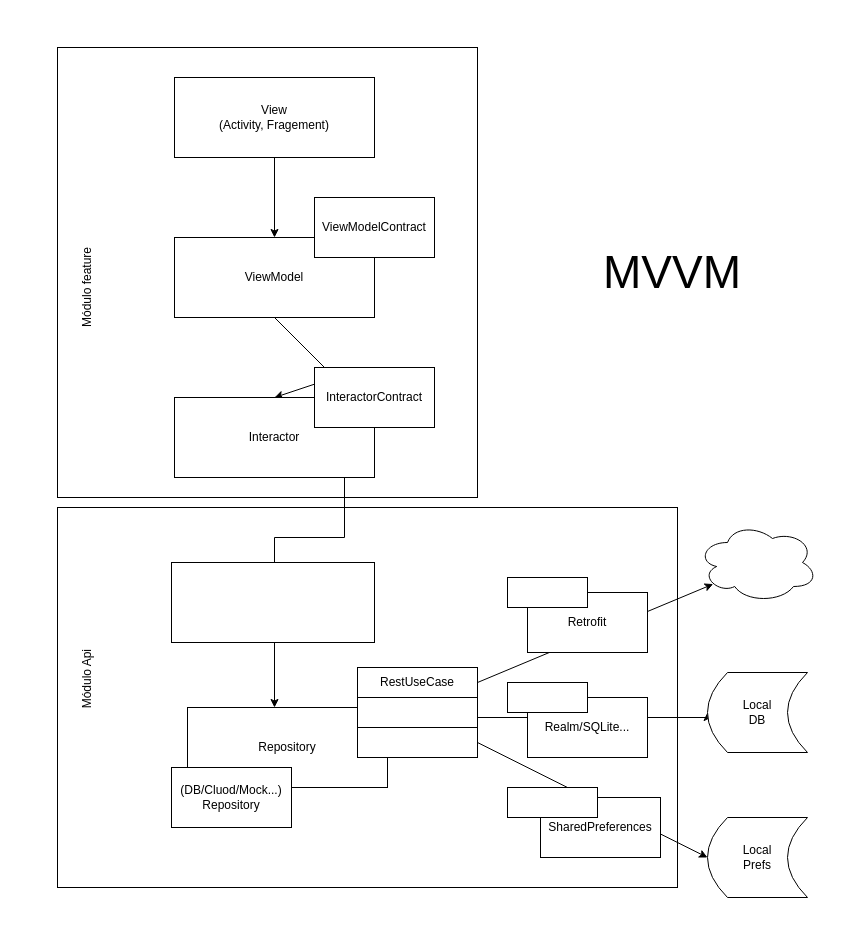
This 854x944 diagram has some shape labels left out. Each missing label, with the centre of its shape:
"APIRest" goes at point 757,562.
"DbRepo" goes at point 547,697.
"DbUseCase" goes at point 417,712.
"KeyValueRepo" goes at point 552,802.
"KeyValueUseCase" goes at point 417,742.
"RestRepo" goes at point 547,592.
"XUseCase" goes at point 272,602.
